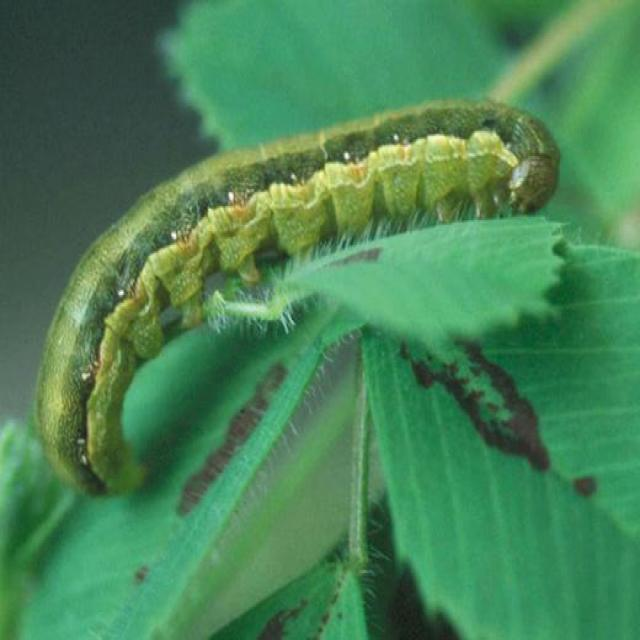BeetArmyWorm-Larva-: (29, 94, 564, 504)
